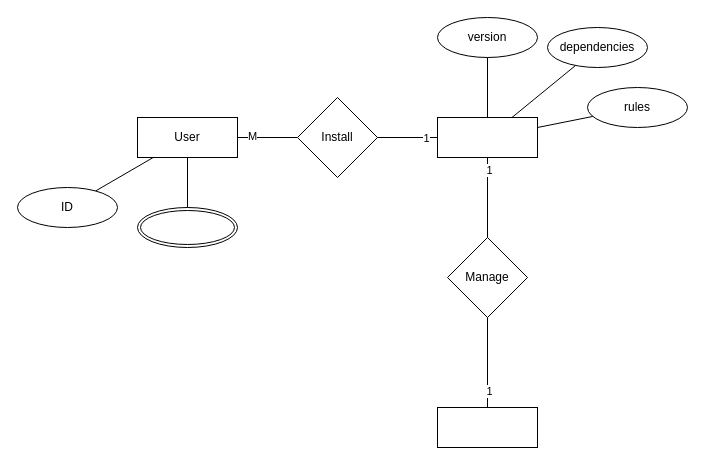
The diagram is 705 pixels wide and 465 high, and some of its shapes have lost their labels. The shapes that lost their labels are listed below. From the top down, each one's centre as x and y in pixels, then its label:
the point at 487,137: Extension
the point at 187,227: Preferences
the point at 487,427: Administrator
